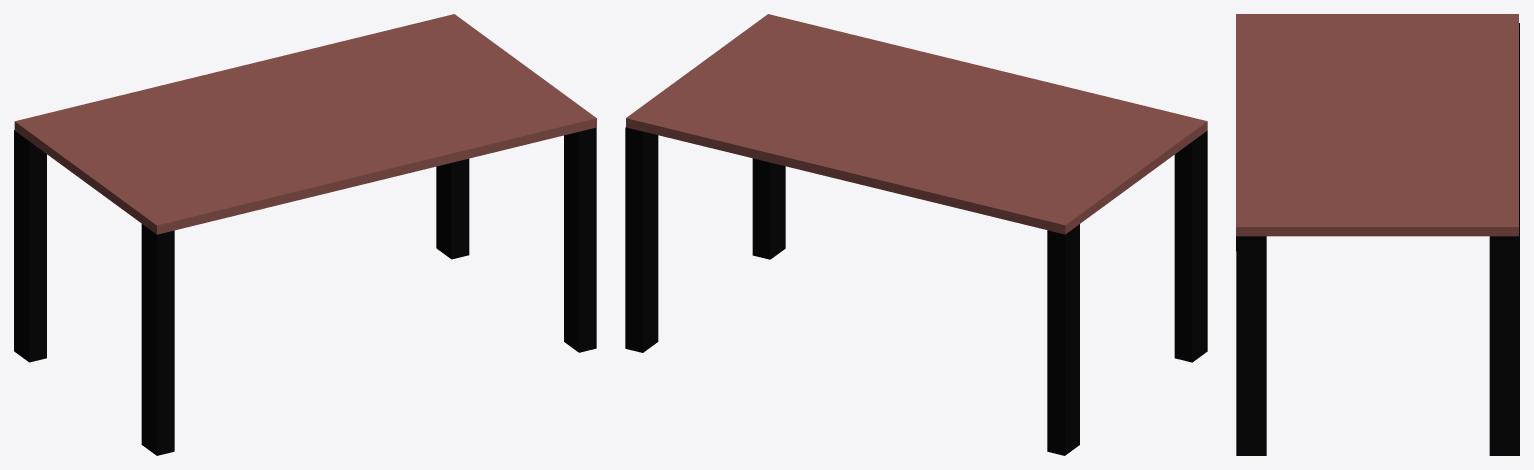
The model's file is Desk prefab.fbx.
3 renders of one model, left to right at view 1: azimuth 30°, elevation 25°; view 2: azimuth 150°, elevation 25°; view 3: azimuth 270°, elevation 25°, orthographic.
Visible parts, largest first — view 1: Cube__4_, Cube, Cube__3_, Cube__1_, Cube__2_; view 2: Cube__4_, Cube__2_, Cube, Cube__1_, Cube__3_; view 3: Cube__4_, Cube__2_, Cube__3_.
Part boxes in pixels (x1,y1,x2,y2): Cube__4_: (14,14,596,234); Cube: (141,224,174,455); Cube__3_: (564,127,596,352); Cube__1_: (14,130,46,362); Cube__2_: (436,158,469,259); Cube__4_: (626,14,1207,234); Cube__2_: (625,127,658,352); Cube: (1174,130,1207,362); Cube__1_: (1047,224,1079,455); Cube__3_: (752,158,785,259); Cube__4_: (1236,14,1518,236); Cube__2_: (1489,227,1519,455); Cube__3_: (1236,236,1266,455).
Size of the model in its own units: 250 by 125 by 140.
